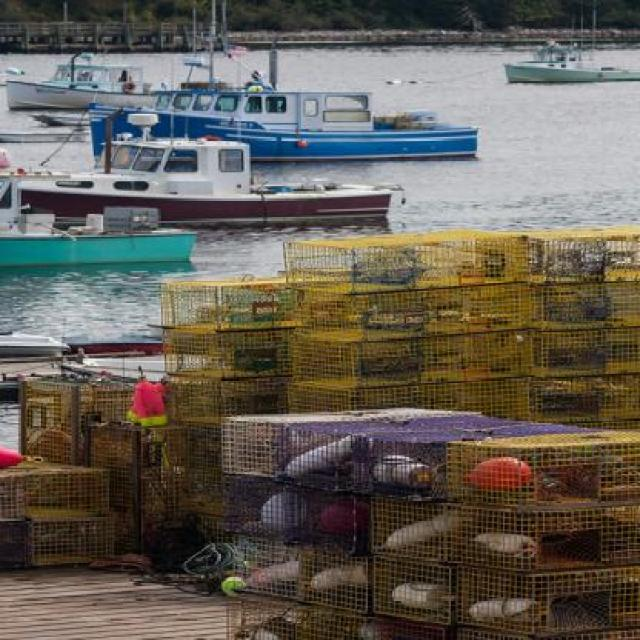ship: (5, 136, 393, 215), (83, 85, 479, 160), (0, 175, 197, 263), (0, 60, 242, 111), (504, 48, 638, 81)
